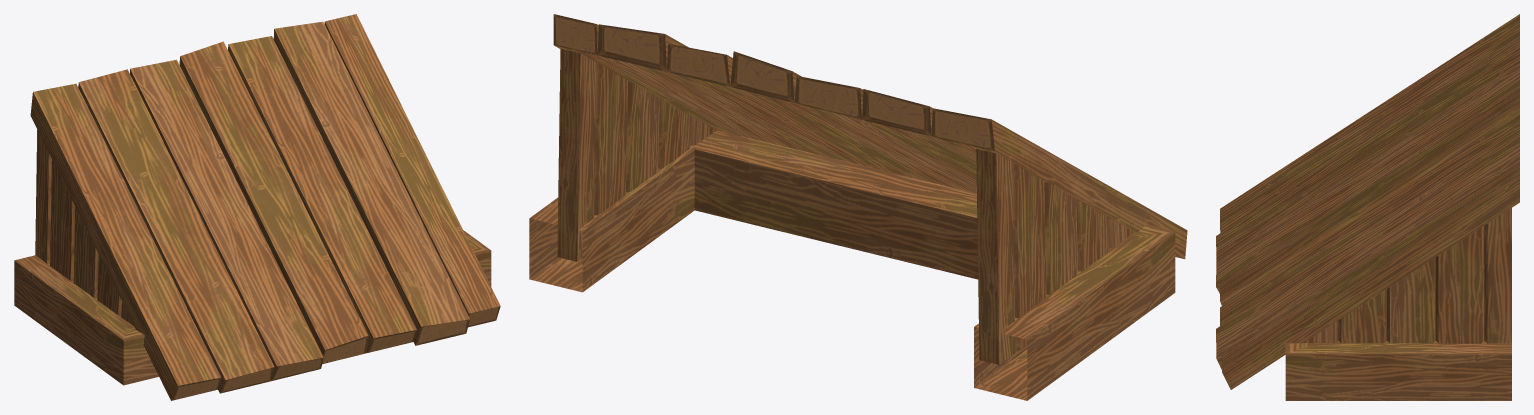
File: Roof_Wooden_2x1.gltf
3 renders of one model, left to right at view 1: azimuth 30°, elevation 25°; view 2: azimuth 150°, elevation 25°; view 3: azimuth 270°, elevation 25°, orthographic. The views are drawn at different scales.
Parts seen in each view (by area): view 1: Roof_Wooden_2x1; view 2: Roof_Wooden_2x1; view 3: Roof_Wooden_2x1.
Boxes of the visible parts, x1,y1,x2,y2 form: Roof_Wooden_2x1: (14,14,500,400); Roof_Wooden_2x1: (529,14,1187,400); Roof_Wooden_2x1: (1216,14,1519,400).
Size of the model in its own units: 2.26 by 1.25 by 1.56.
2 materials, 2 textured.
